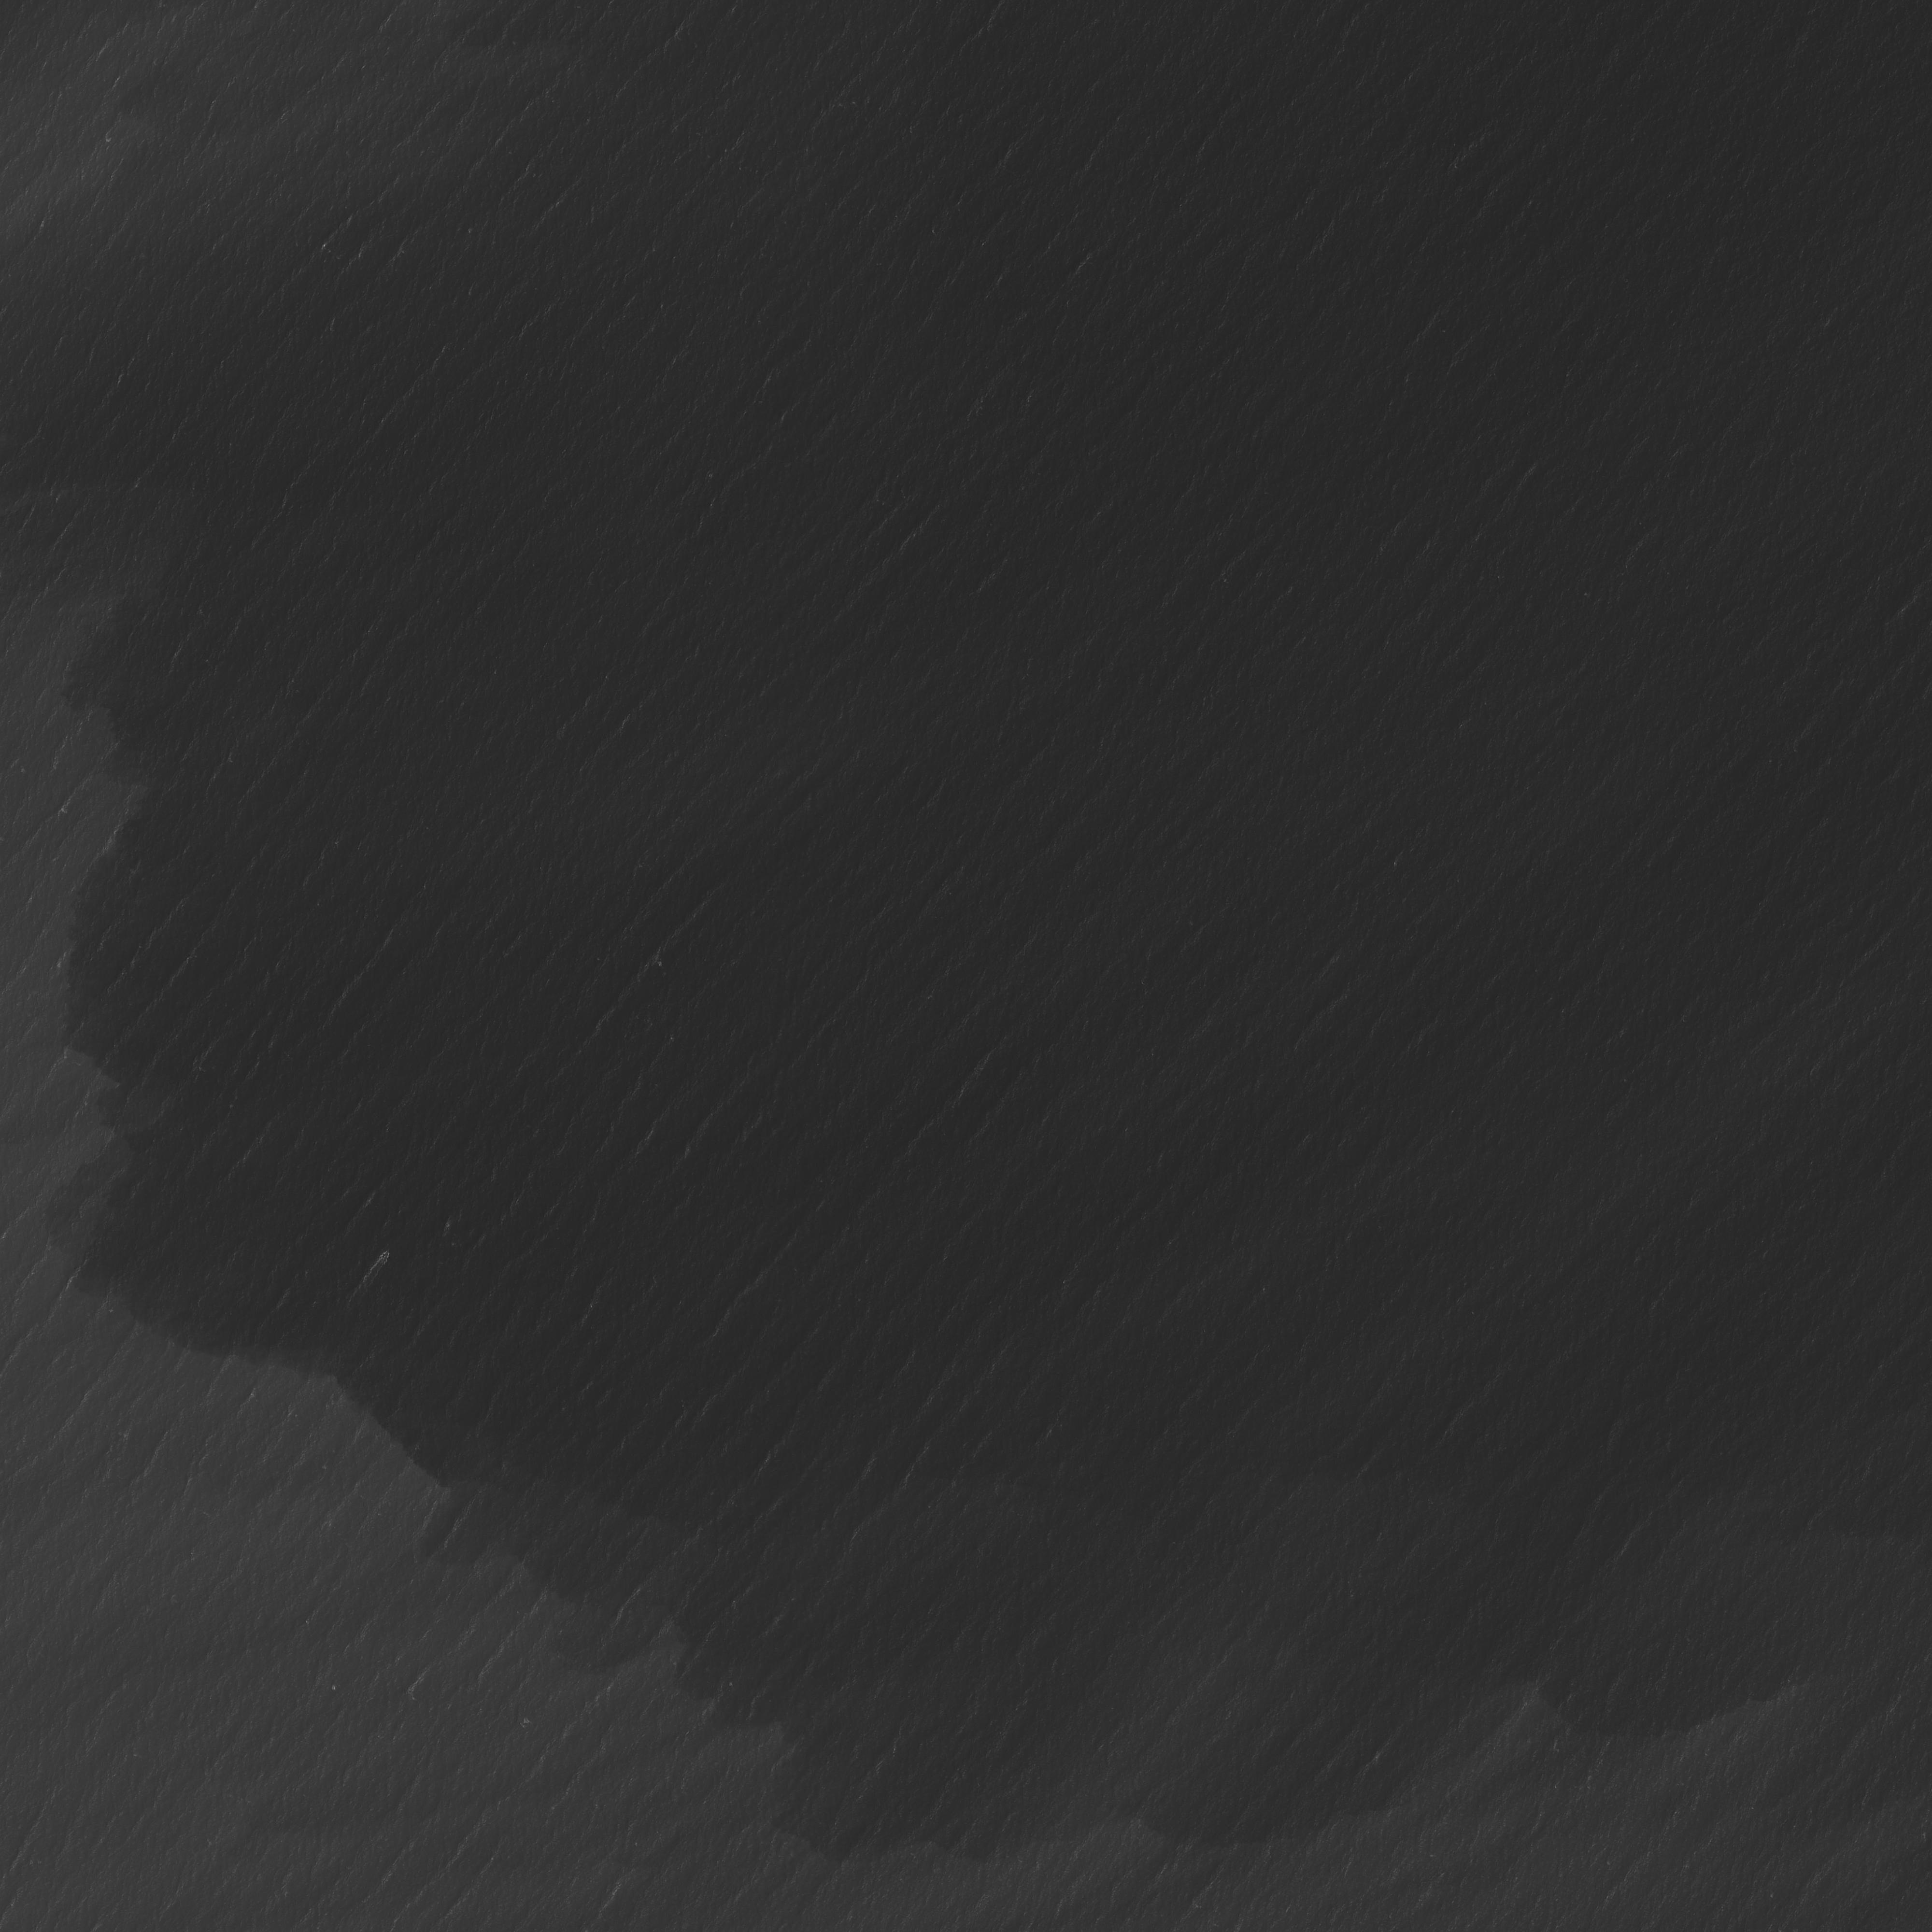ship: (382, 1249, 391, 1260)
